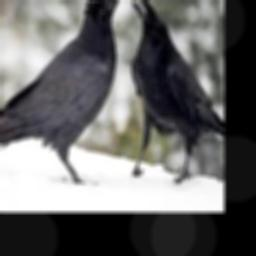Crow: (0, 0, 124, 184), (129, 0, 224, 185)
